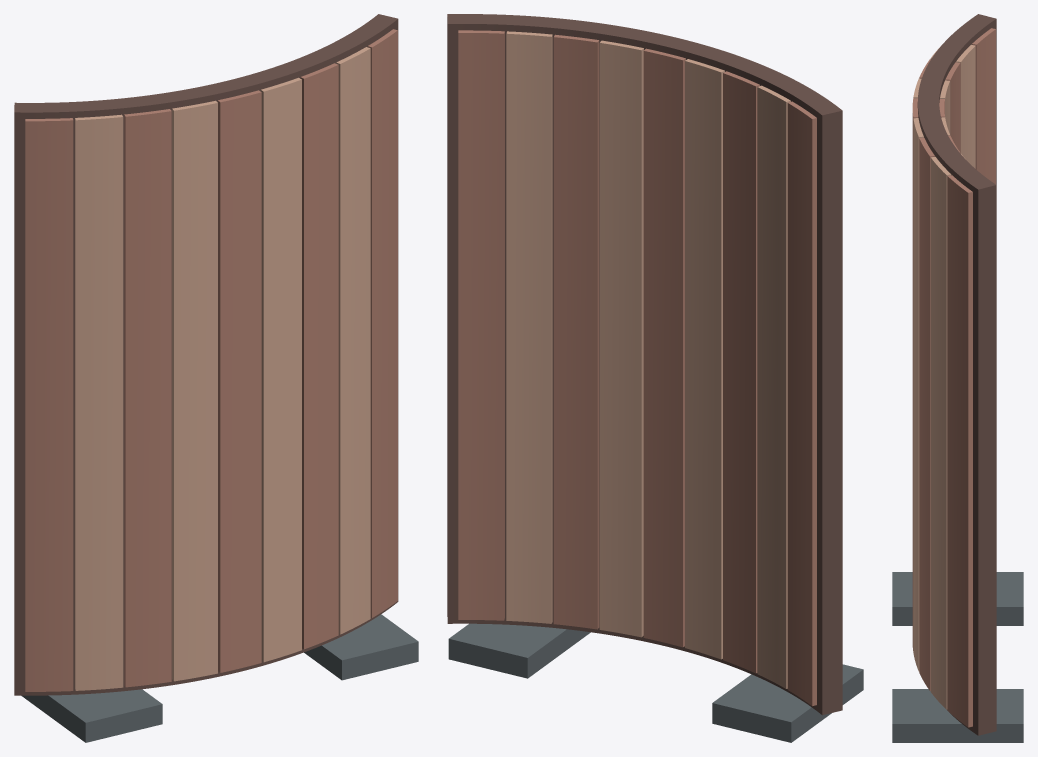
3 views of the same model, side by side, from view 1: azimuth 30°, elevation 25°; view 2: azimuth 150°, elevation 25°; view 3: azimuth 270°, elevation 25° (orthographic). The views are drawn at different scales.
Visible parts, largest first — view 1: curved-rib-front-2, curved-rib-front-1, curved-rib-front-3, curved-rib-front-4, curved-rib-front-5, curved-rib-front-6, curved-rib-front-7, curved-rib-front-8, curved-core, curved-rib-front-9, steel-foot-left, steel-foot-right; view 2: curved-core, curved-rib-rear-8, curved-rib-rear-9, curved-rib-rear-7, curved-rib-rear-6, curved-rib-rear-5, curved-rib-rear-4, curved-rib-rear-3, curved-rib-rear-2, curved-rib-rear-1, steel-foot-left, steel-foot-right; view 3: curved-core, curved-rib-front-9, curved-rib-front-8, curved-rib-front-7, steel-foot-right, curved-rib-front-6, curved-rib-rear-1, steel-foot-left, curved-rib-rear-2, curved-rib-front-5, curved-rib-rear-3, curved-rib-rear-4.
Boxes of the visible parts, x1,y1,x2,y2 form: curved-rib-front-2: (75, 114, 123, 690); curved-rib-front-1: (25, 118, 73, 691); curved-rib-front-3: (124, 109, 171, 687); curved-rib-front-4: (172, 100, 217, 681); curved-rib-front-5: (217, 90, 261, 672); curved-rib-front-6: (260, 77, 301, 662); curved-rib-front-7: (300, 63, 338, 649); curved-rib-front-8: (336, 47, 370, 634); curved-core: (14, 14, 398, 695); curved-rib-front-9: (367, 29, 397, 617); steel-foot-left: (21, 689, 162, 742); steel-foot-right: (304, 614, 418, 680); curved-core: (447, 14, 842, 715); curved-rib-rear-8: (506, 31, 552, 623); curved-rib-rear-9: (458, 30, 504, 620); curved-rib-rear-7: (553, 34, 599, 629); curved-rib-rear-6: (599, 40, 643, 637); curved-rib-rear-5: (643, 48, 685, 647); curved-rib-rear-4: (685, 59, 724, 659); curved-rib-rear-3: (723, 71, 759, 673); curved-rib-rear-2: (757, 85, 790, 688); curved-rib-rear-1: (787, 101, 816, 706); steel-foot-left: (712, 664, 863, 742); steel-foot-right: (448, 623, 590, 678); curved-core: (917, 14, 996, 735); curved-rib-front-9: (947, 175, 972, 727); curved-rib-front-8: (930, 156, 951, 709); curved-rib-front-7: (919, 137, 934, 690); steel-foot-right: (892, 689, 1023, 742); curved-rib-front-6: (913, 118, 923, 671); curved-rib-rear-1: (972, 28, 995, 184); steel-foot-left: (892, 572, 1023, 625); curved-rib-rear-2: (956, 44, 975, 168); curved-rib-front-5: (912, 98, 918, 650); curved-rib-rear-3: (945, 62, 960, 152); curved-rib-rear-4: (940, 80, 950, 134).
Size of the model in its own units: 1.2 by 1.8 by 0.38.
